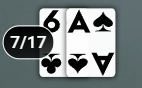6: (39, 8, 65, 35)
a: (66, 8, 92, 35)
